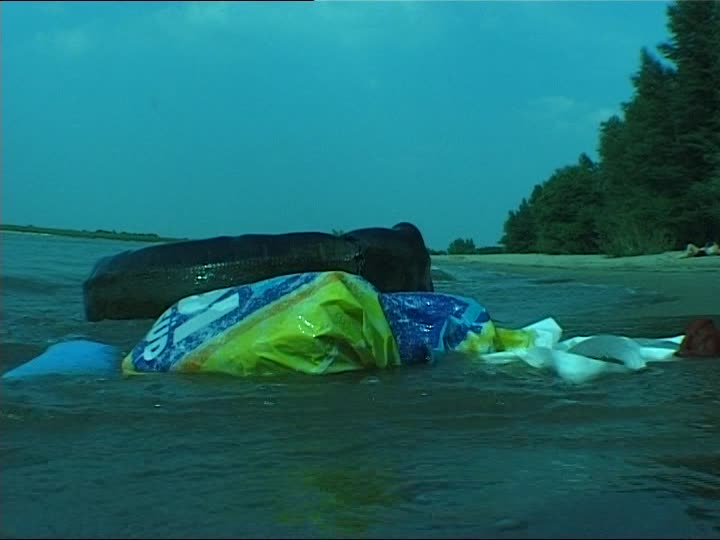litter: (121, 268, 519, 397), (70, 219, 469, 320), (514, 288, 696, 422), (1, 318, 143, 398)
